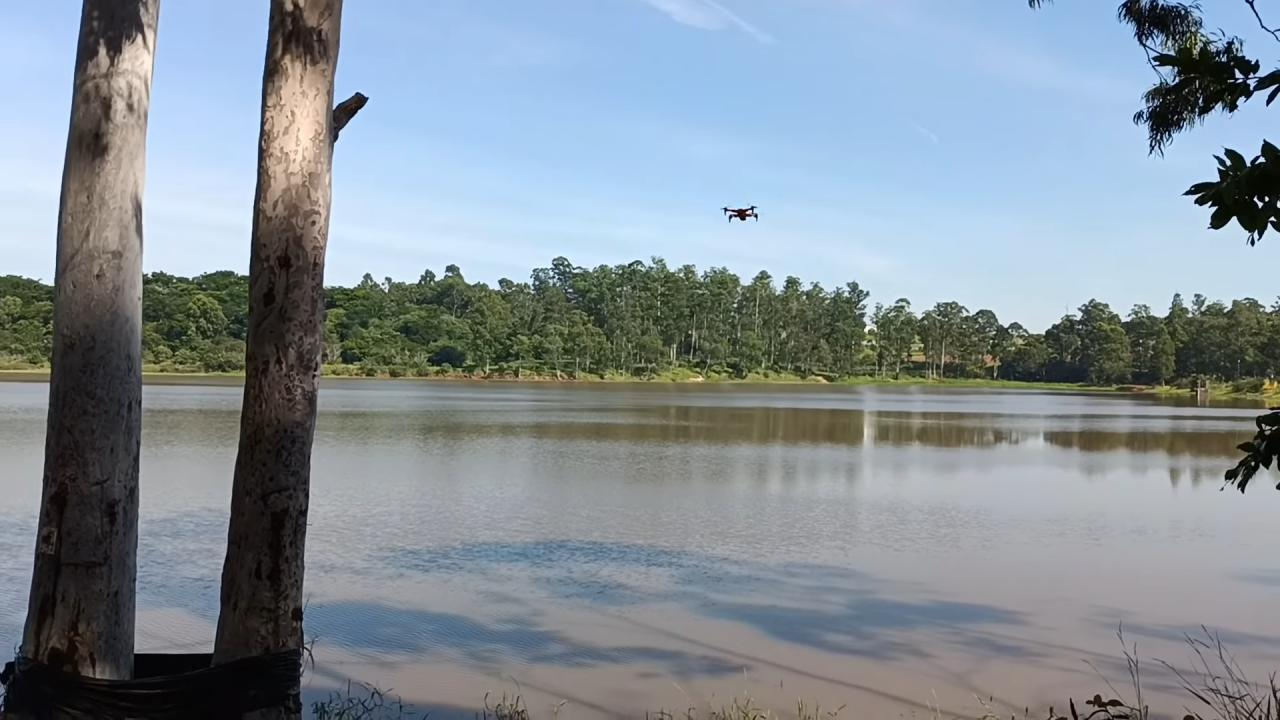Drone: (713, 196, 770, 229)
